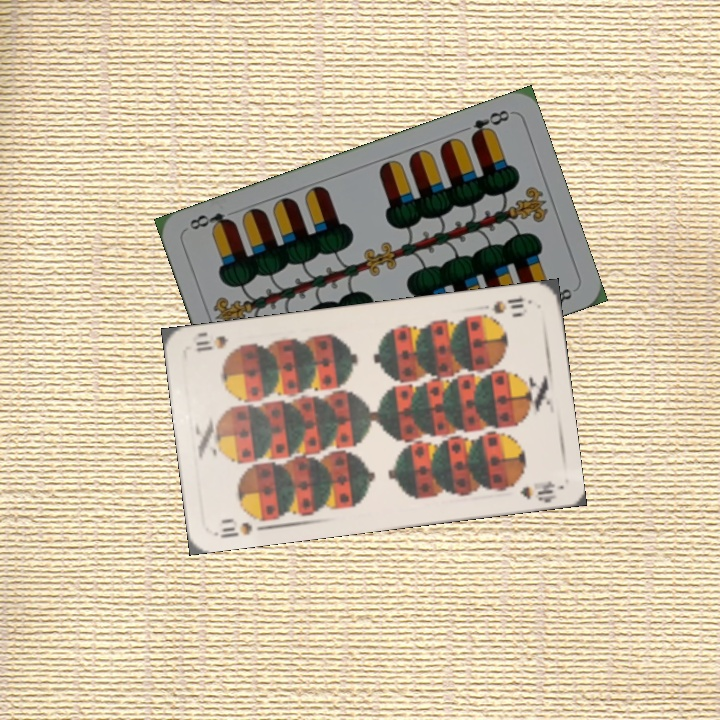E8: (466, 106, 512, 143)
S10: (212, 510, 271, 541), (489, 294, 527, 316)
